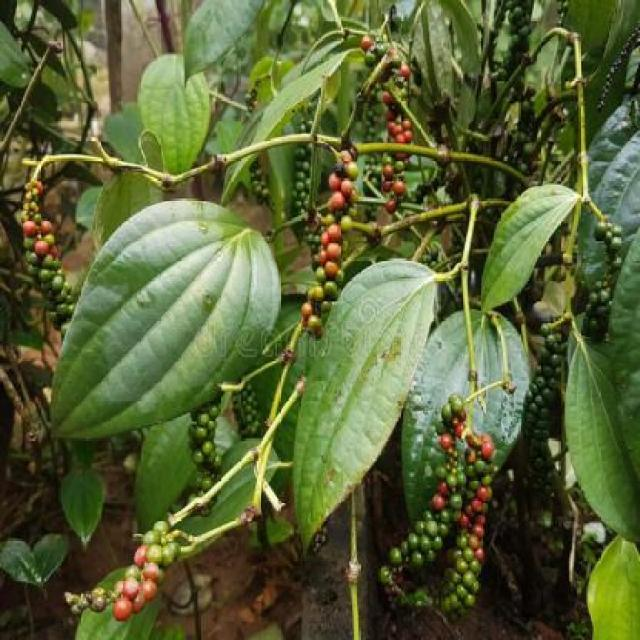RIPE: (9, 174, 86, 348), (306, 153, 346, 330), (379, 60, 416, 215)
